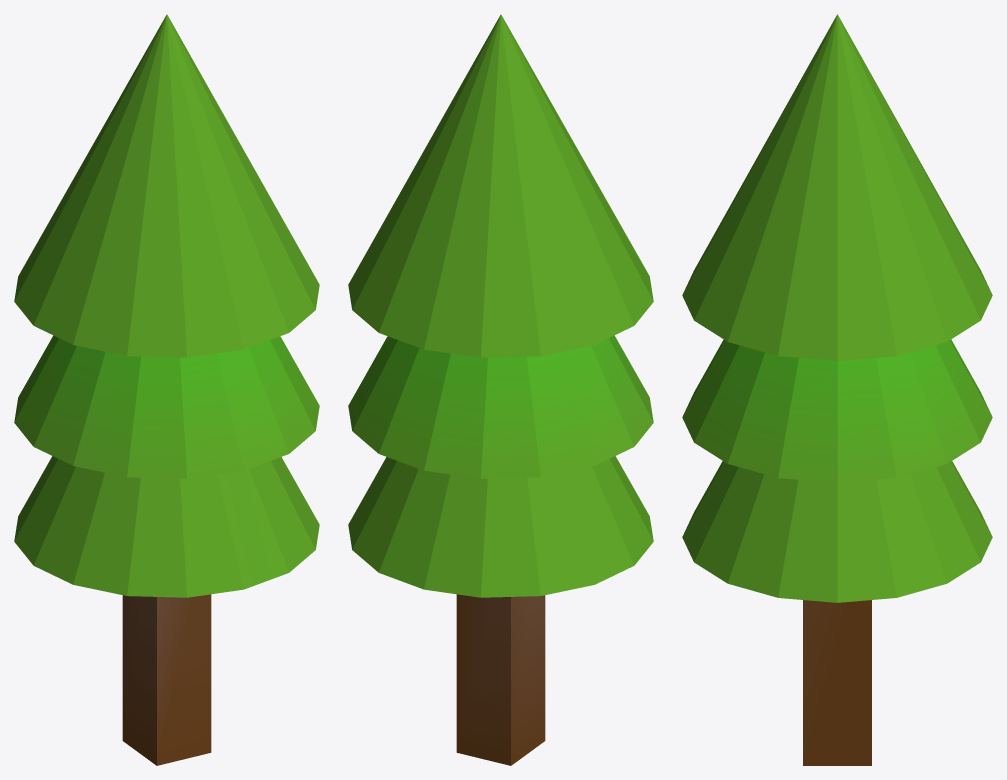
The model's file is arbre_test.gltf.
3 views of the same model, side by side, from view 1: azimuth 30°, elevation 25°; view 2: azimuth 150°, elevation 25°; view 3: azimuth 270°, elevation 25° (orthographic).
Parts seen in each view (by area): view 1: Cone3, Cone2, Cone, Cube; view 2: Cone3, Cone2, Cone, Cube; view 3: Cone3, Cone2, Cone, Cube.
Boxes of the visible parts, bbox=[...] form: Cone3: bbox=[14, 14, 319, 357]; Cone2: bbox=[14, 335, 319, 478]; Cone: bbox=[14, 456, 319, 597]; Cube: bbox=[122, 594, 211, 765]; Cone3: bbox=[348, 14, 653, 357]; Cone2: bbox=[348, 335, 653, 478]; Cone: bbox=[348, 456, 653, 597]; Cube: bbox=[456, 594, 545, 765]; Cone3: bbox=[682, 14, 992, 360]; Cone2: bbox=[682, 339, 992, 482]; Cone: bbox=[682, 461, 992, 602]; Cube: bbox=[803, 600, 871, 765].
Size of the model in its own units: 0.9866 by 2.59 by 0.9866.
